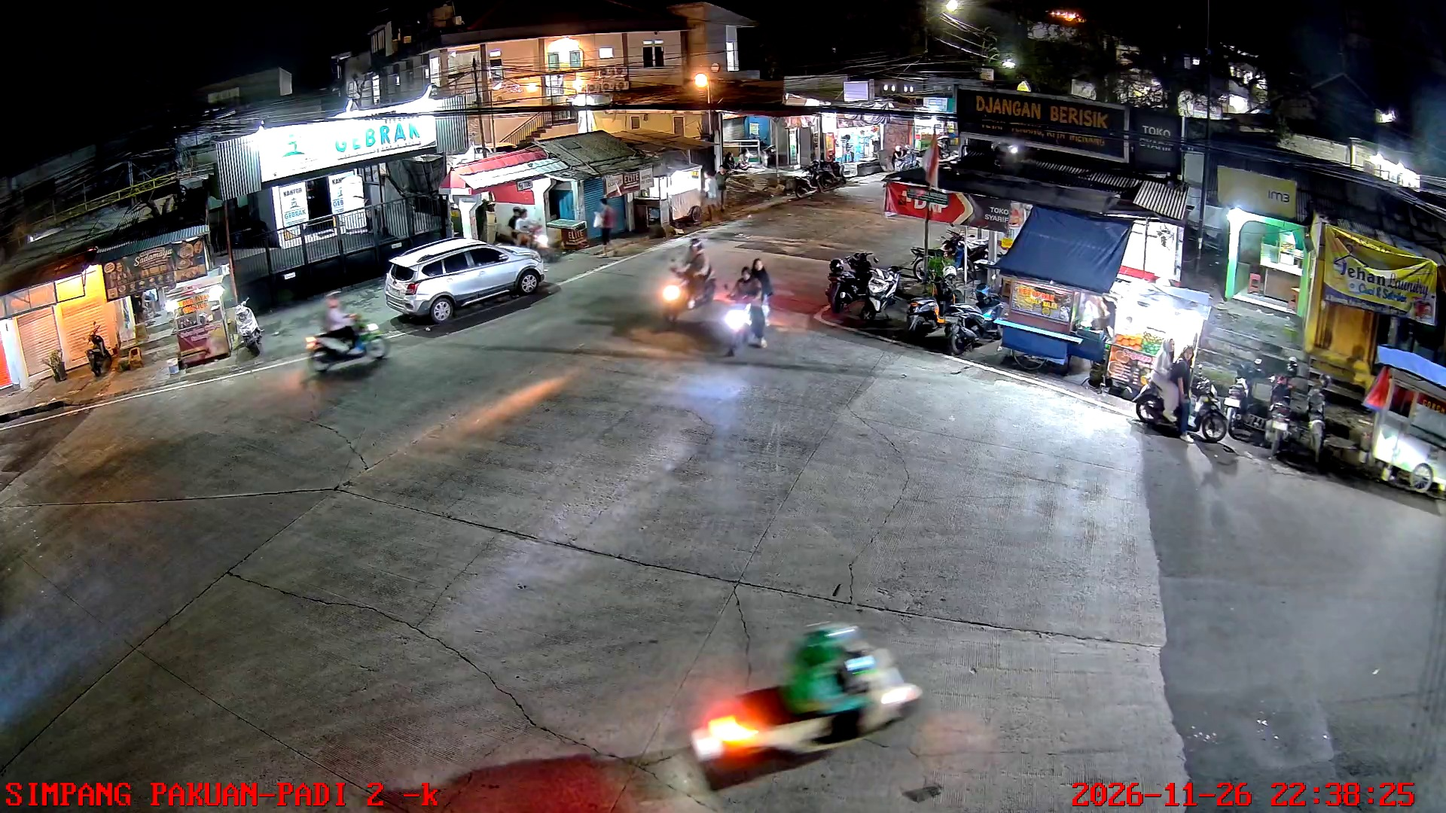Gerobak: (988, 202, 1132, 375), (1359, 342, 1445, 494)
